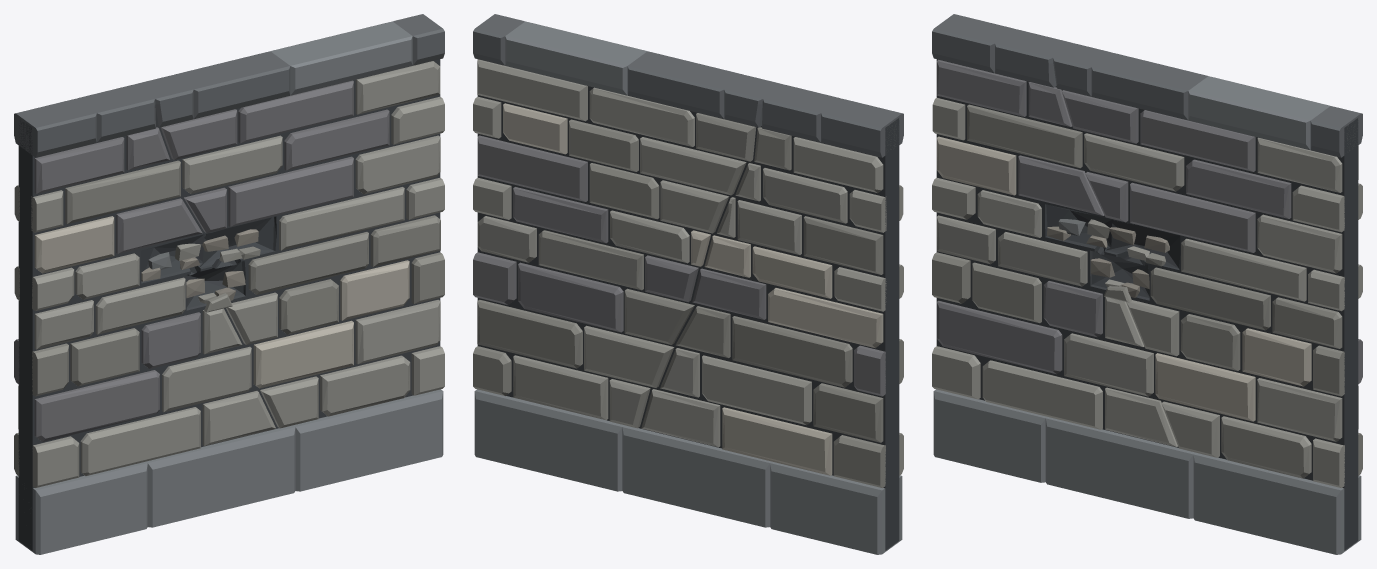
Rendered from SM_LPD_Struct_WallCracked_01.fbx.
3 views of the same model, side by side, from view 1: azimuth 30°, elevation 25°; view 2: azimuth 150°, elevation 25°; view 3: azimuth 330°, elevation 25° (orthographic).
Parts seen in each view (by area): view 1: SM_LPD_Struct_WallCracked_01; view 2: SM_LPD_Struct_WallCracked_01; view 3: SM_LPD_Struct_WallCracked_01.
Part boxes in pixels (<box>): SM_LPD_Struct_WallCracked_01: <box>14,14,444,554</box>; SM_LPD_Struct_WallCracked_01: <box>473,14,903,554</box>; SM_LPD_Struct_WallCracked_01: <box>932,14,1362,554</box>.
Bounding box in the file's own units: 4 × 4 × 0.4.
